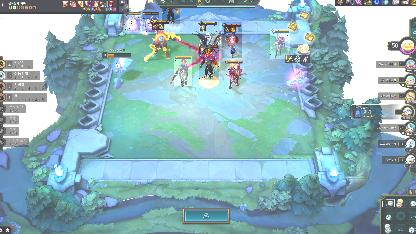1_hecarim: (226, 60, 244, 88)
1_nomsy: (124, 12, 142, 32), (143, 12, 159, 32)
1_rell: (174, 56, 192, 86)
1_swain: (199, 46, 219, 80), (162, 8, 180, 24)
2_diana: (270, 29, 290, 59)
2_nilah: (222, 22, 242, 58)
2_qiyana: (198, 22, 220, 52)
3_rengar: (151, 20, 171, 62)
